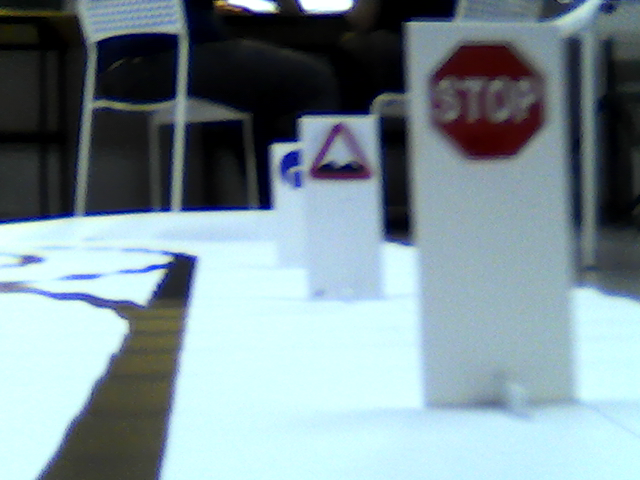Nerov: (311, 123, 372, 182)
Stop: (427, 40, 548, 162)
